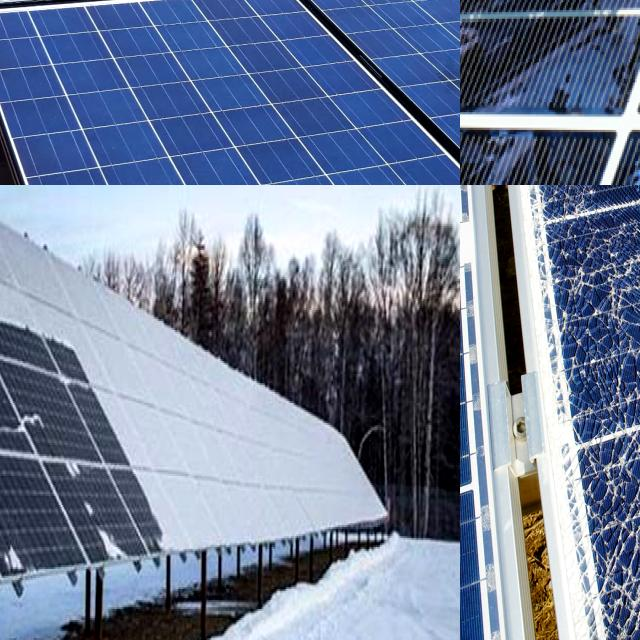crack: (240, 52, 384, 130), (172, 98, 288, 178), (16, 135, 144, 185), (283, 137, 398, 185), (209, 12, 305, 66), (5, 92, 94, 150), (0, 61, 80, 111), (0, 6, 55, 61), (326, 161, 434, 185), (151, 5, 204, 50)
panel: (82, 301, 204, 474), (0, 185, 72, 350), (216, 392, 304, 518), (54, 450, 126, 576), (303, 420, 387, 524), (152, 490, 205, 555), (0, 285, 53, 346), (0, 384, 51, 435), (0, 528, 43, 578)
shadow: (460, 0, 514, 54)
